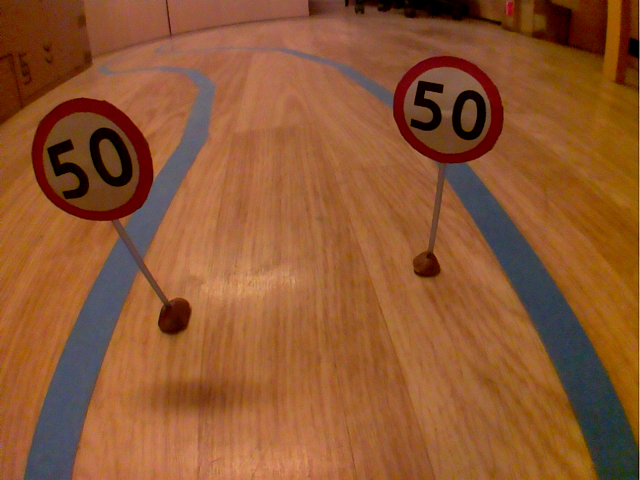Ograniczenie 50: (27, 95, 158, 227), (387, 51, 509, 168)
